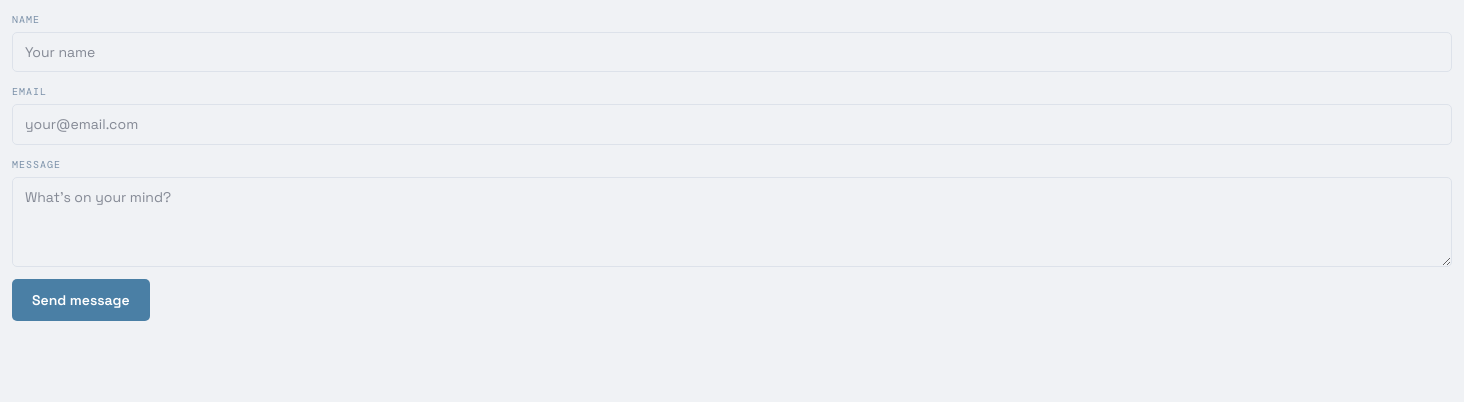
ContactForm › submit validation › shows all field errors when an empty form is submitted
Click the button "Send message".
click(81, 300)  # box [12,279,150,321]
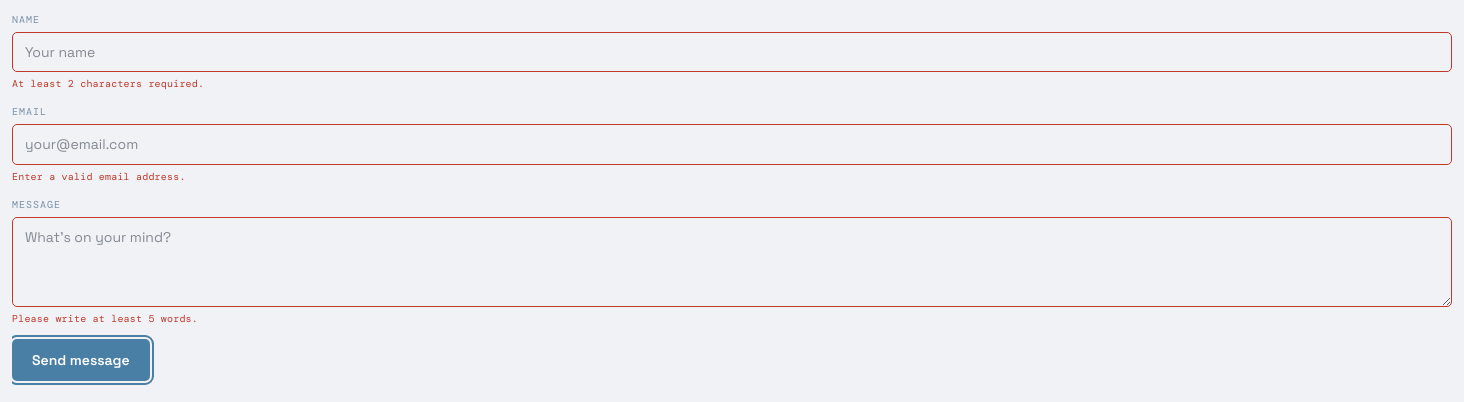
Check: the text "At least 2 characters required." is shown, box [12,77,204,90]
Check: the text "Enter a valid email address." is shown, box [12,170,186,183]
Check: the text "Please write at least 5 words." is shown, box [12,312,198,325]
